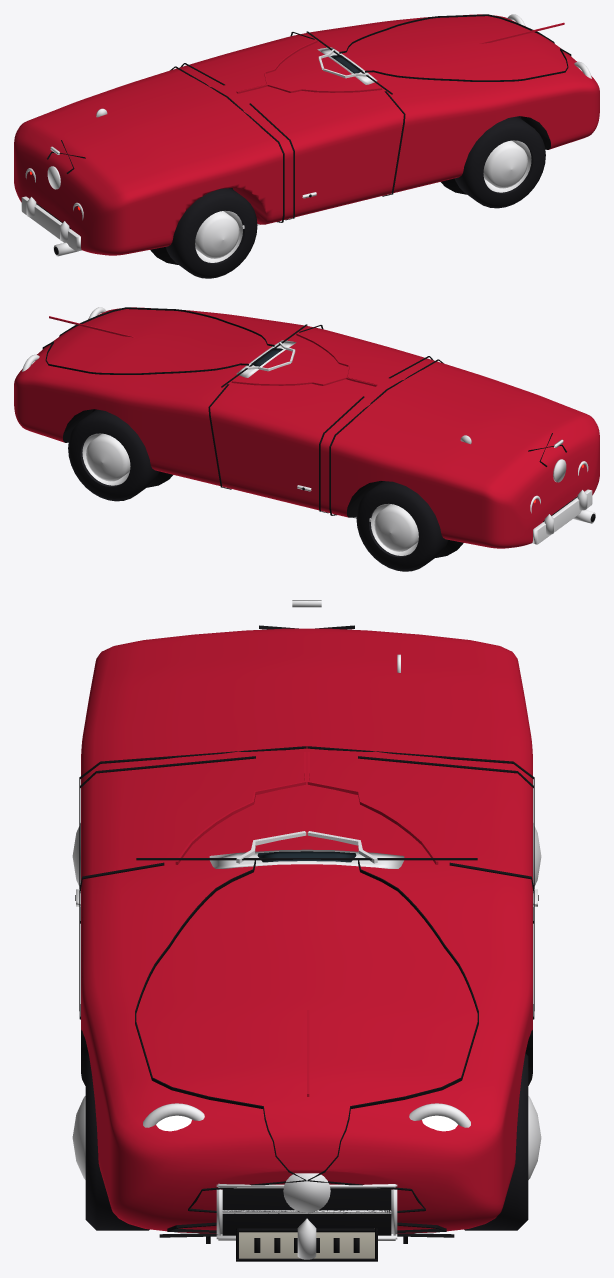
File: t1_trumpet.glb
3 views of the same model, one above another, from view 1: azimuth 30°, elevation 25°; view 2: azimuth 150°, elevation 25°; view 3: azimuth 270°, elevation 25° (orthographic). The views are drawn at different scales.
Parts seen in each view (by area): view 1: paint_00, tyre_01, tyre_03, chrome_18, chrome_20, chrome_03, trim_34, trim_33, paint_05, chrome_26, chrome_28, chrome_05; view 2: paint_00, tyre_00, tyre_02, chrome_17, chrome_19, chrome_03, trim_04, trim_33, trim_34, paint_04, chrome_25, chrome_27 (+1 smaller); view 3: paint_00, trim_06, tyre_03, tyre_02, wall_00, chrome_05, chrome_01, trim_34, trim_33, trim_36, trim_37, trim_35.
Boxes of the visible parts, left/top/right/bottom form: paint_00: left=14, top=14, right=599, bottom=255; tyre_01: left=166, top=188, right=257, bottom=278; tyre_03: left=454, top=116, right=545, bottom=208; chrome_18: left=195, top=211, right=239, bottom=258; chrome_20: left=483, top=140, right=527, bottom=188; chrome_03: left=21, top=196, right=81, bottom=251; trim_34: left=365, top=48, right=571, bottom=81; trim_33: left=339, top=14, right=554, bottom=53; paint_05: left=237, top=84, right=382, bottom=93; chrome_26: left=195, top=210, right=242, bottom=262; chrome_28: left=484, top=140, right=531, bottom=192; chrome_05: left=317, top=47, right=377, bottom=84; paint_00: left=14, top=307, right=599, bottom=548; tyre_00: left=356, top=481, right=447, bottom=571; tyre_02: left=68, top=409, right=159, bottom=501; chrome_17: left=374, top=504, right=418, bottom=551; chrome_19: left=86, top=433, right=130, bottom=481; chrome_03: left=532, top=489, right=592, bottom=544; trim_04: left=63, top=409, right=380, bottom=517; trim_33: left=42, top=341, right=248, bottom=374; trim_34: left=59, top=307, right=274, bottom=346; paint_04: left=231, top=377, right=376, bottom=386; chrome_25: left=371, top=503, right=418, bottom=555; chrome_27: left=82, top=433, right=129, bottom=485; paint_00: left=81, top=628, right=532, bottom=1233; trim_06: left=222, top=1188, right=391, bottom=1235; tyre_03: left=85, top=1053, right=149, bottom=1230; tyre_02: left=464, top=1053, right=528, bottom=1230; wall_00: left=239, top=1232, right=374, bottom=1258; chrome_05: left=209, top=849, right=404, bottom=868; chrome_01: left=283, top=1173, right=330, bottom=1212; trim_34: left=135, top=860, right=288, bottom=1171; trim_33: left=325, top=860, right=478, bottom=1171; trim_36: left=307, top=1170, right=454, bottom=1237; trim_37: left=159, top=1170, right=306, bottom=1237; trim_35: left=136, top=858, right=477, bottom=860.
Bounding box in the file's own units: 10.47 × 2.58 × 3.97.
